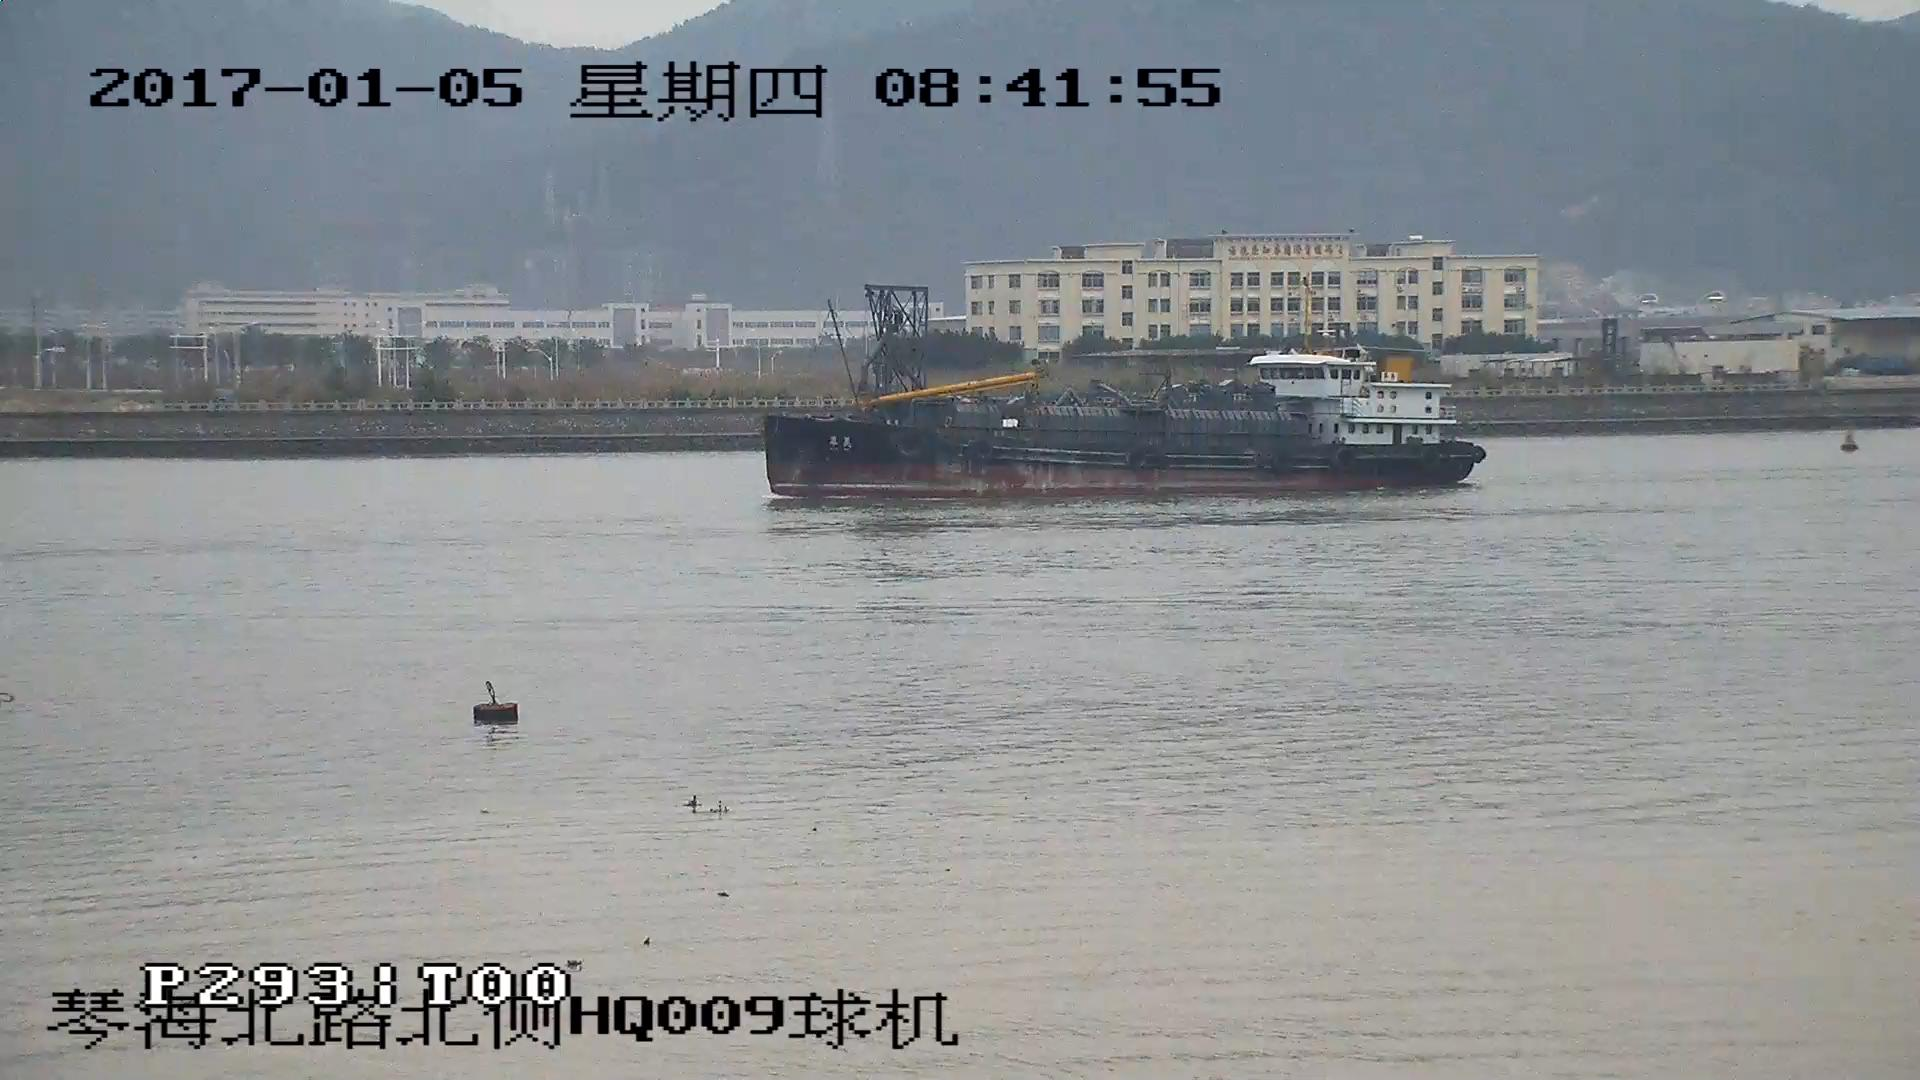bulk cargo carrier: (762, 287, 1477, 502)
